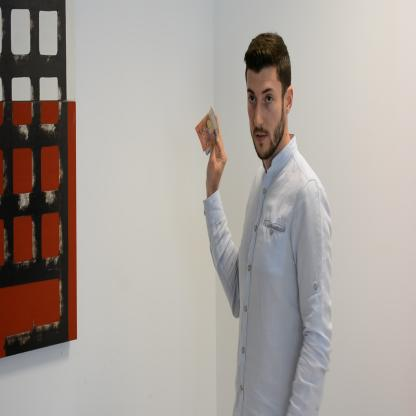billete: (194, 104, 221, 156)
